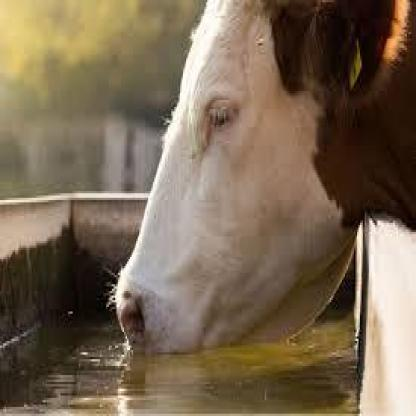cow: (116, 0, 416, 357)
